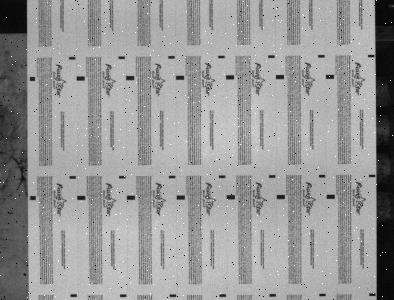backgroundclutter: (23, 272, 27, 276)
incorrect qblock: (29, 76, 35, 81), (30, 196, 36, 200)
qblock: (77, 195, 86, 200), (126, 195, 135, 200), (277, 194, 286, 199), (327, 194, 336, 199), (76, 76, 85, 81), (126, 75, 135, 80), (276, 74, 285, 79), (176, 75, 185, 80), (326, 74, 335, 79), (177, 195, 185, 200), (227, 195, 236, 199), (226, 75, 235, 79)
smallqblock: (269, 293, 277, 297), (69, 56, 76, 60), (168, 55, 175, 59), (119, 175, 126, 179), (219, 294, 227, 297), (169, 294, 177, 297), (318, 55, 326, 58), (368, 54, 376, 57), (369, 293, 376, 296), (70, 294, 77, 297), (120, 294, 127, 297), (320, 293, 327, 296), (118, 56, 125, 59), (218, 55, 225, 58), (69, 176, 76, 179), (269, 175, 276, 178), (319, 174, 326, 177), (169, 175, 176, 178), (219, 175, 226, 178), (369, 174, 376, 177), (269, 55, 275, 58)
